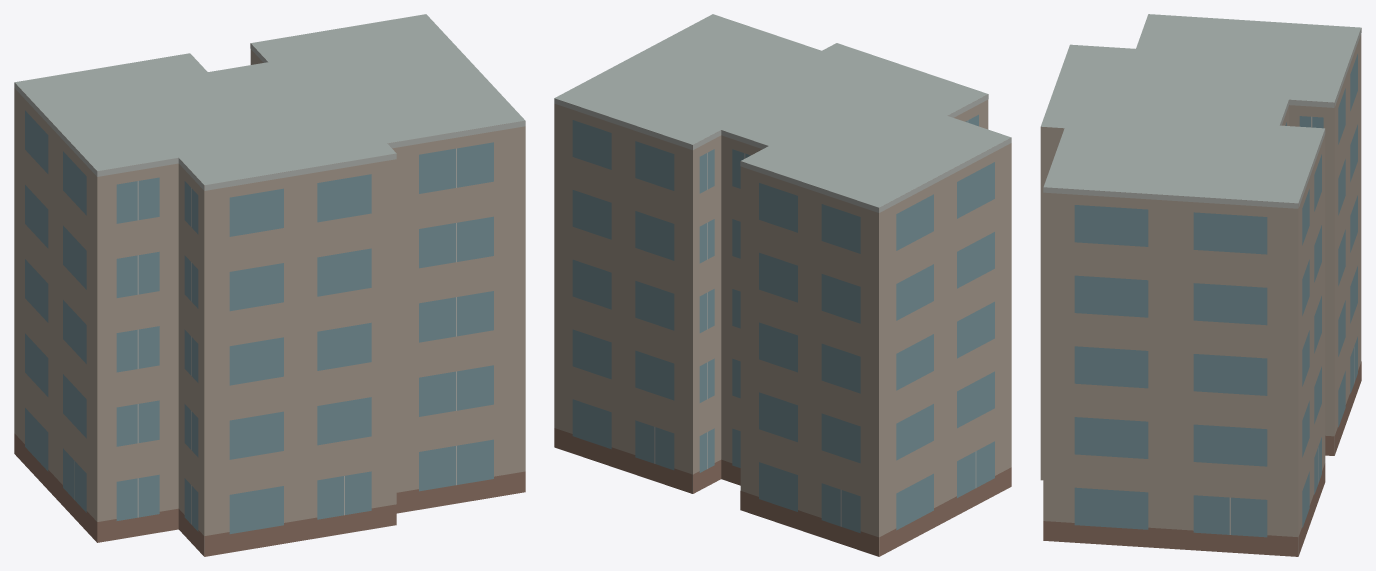
File: survey-upis-32657375.glb
The picture shows the model from 3 angles, left to right: view 1: azimuth 30°, elevation 25°; view 2: azimuth 150°, elevation 25°; view 3: azimuth 270°, elevation 25°; orthographic projection. The views are drawn at different scales.
Visible parts, largest first — view 1: survey-upis-32657375.tmp; view 2: survey-upis-32657375.tmp; view 3: survey-upis-32657375.tmp.
Boxes of the visible parts, x1,y1,x2,y2 form: survey-upis-32657375.tmp: (14, 14, 525, 556); survey-upis-32657375.tmp: (554, 14, 1011, 556); survey-upis-32657375.tmp: (1040, 14, 1361, 556).
Bounding box in the file's own units: 18.28 × 15.9 × 13.09.
